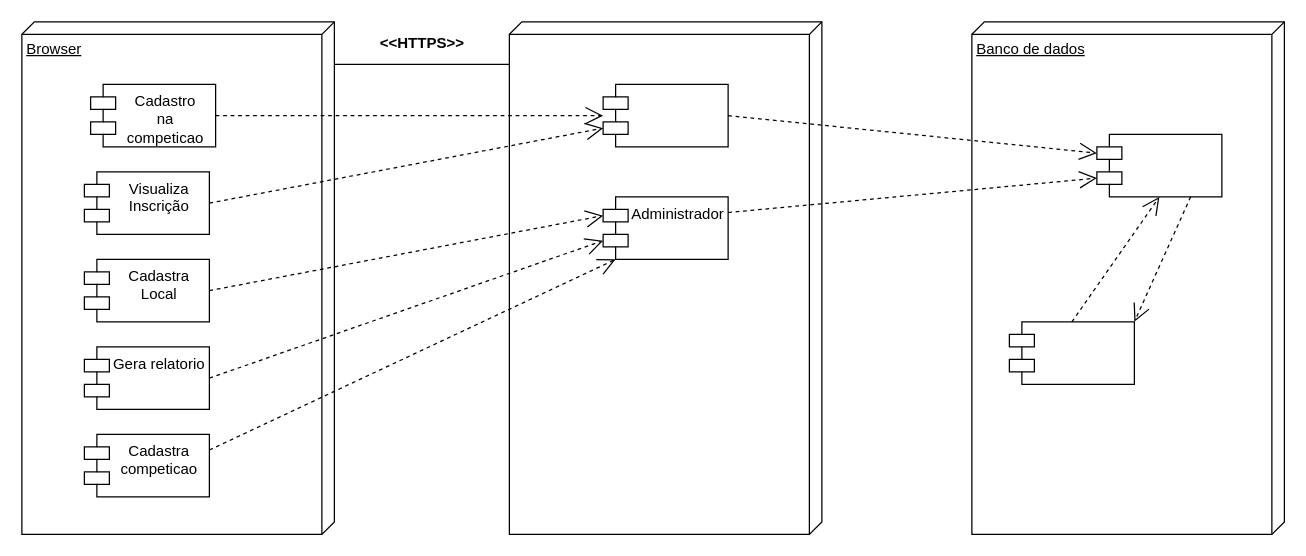
Some shapes in this 1306 by 556 pixel diagram are drawn without their labels. The shapes that lost their labels are listed below. From the top down, each one's box as (x1, y1, x2, y2) in pixels, then its label:
(602, 83, 728, 147): Atleta
(1096, 133, 1222, 197): SGBD
(508, 21, 822, 534): Servidor
(1008, 321, 1134, 384): Persistencia
